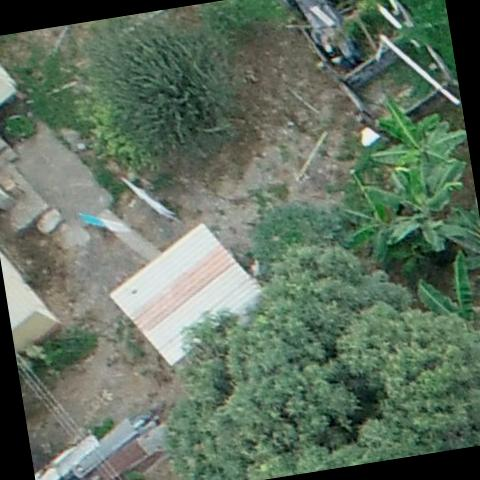Banana-plant: (374, 157, 480, 266), (360, 92, 460, 181), (336, 176, 424, 264), (403, 240, 480, 338)
